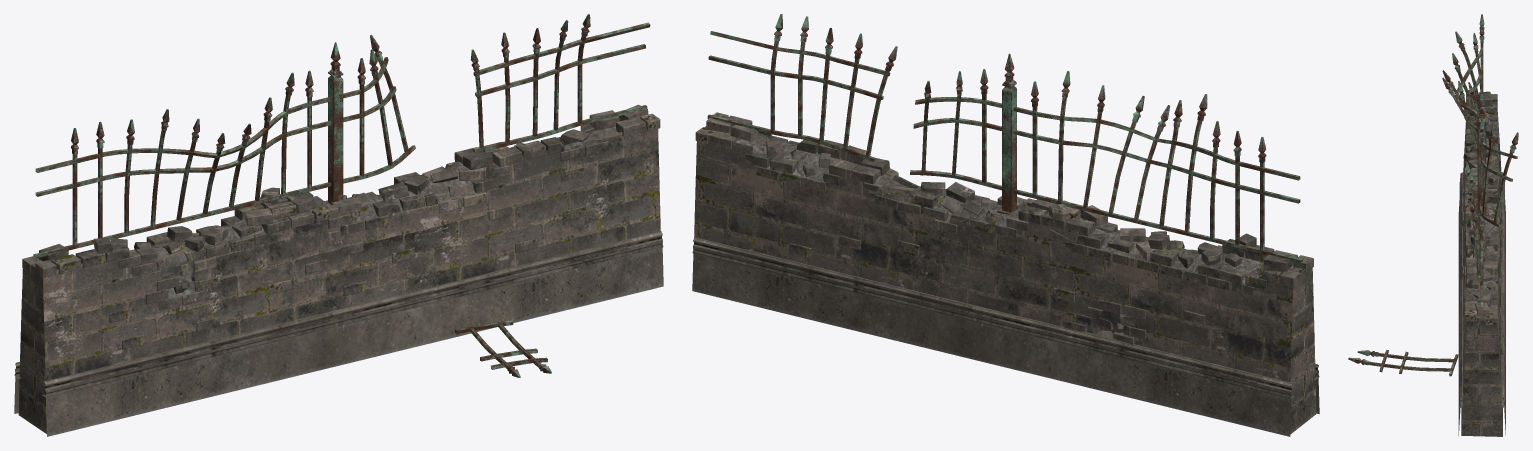
Rendered from SM_Asy_Fence02.fbx.
3 renders of one model, left to right at view 1: azimuth 30°, elevation 25°; view 2: azimuth 150°, elevation 25°; view 3: azimuth 270°, elevation 25°, orthographic. The views are drawn at different scales.
Parts seen in each view (by area): view 1: SM_Asy_Fence02.mo; view 2: SM_Asy_Fence02.mo; view 3: SM_Asy_Fence02.mo.
Boxes of the visible parts, box(x1,y1,x2,y2) form: SM_Asy_Fence02.mo: box(14, 14, 663, 436); SM_Asy_Fence02.mo: box(692, 14, 1319, 436); SM_Asy_Fence02.mo: box(1348, 14, 1518, 436).
Size of the model in its own units: 822 by 393 by 263.
